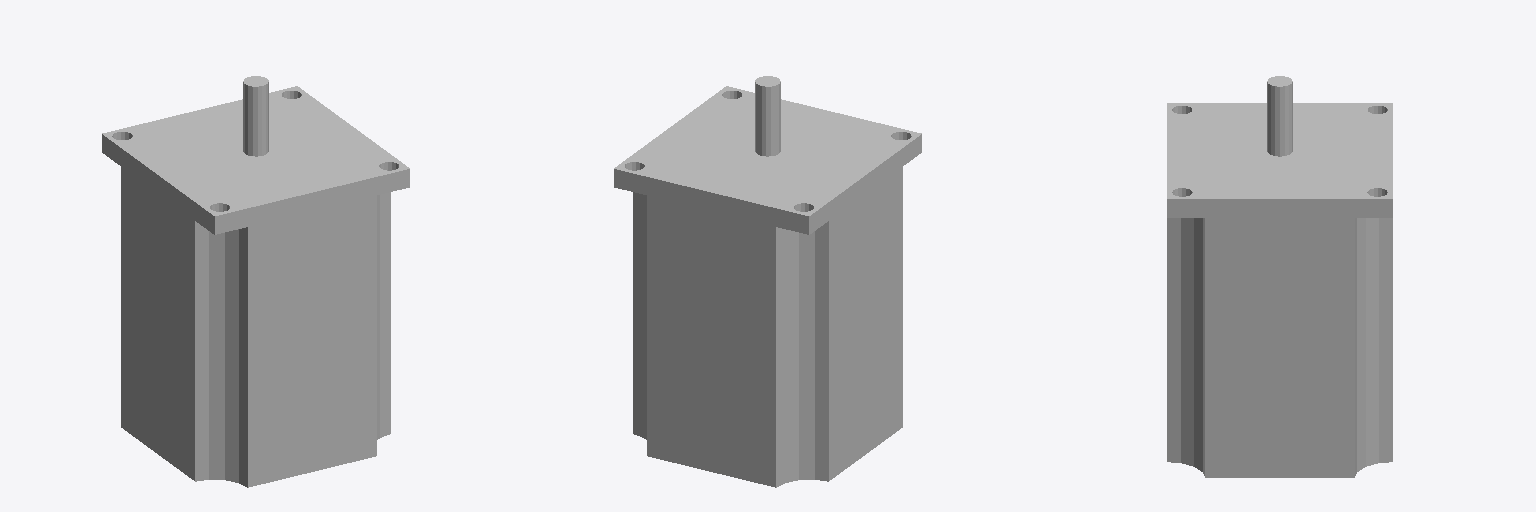
The model's file is zmotor.obj.
3 views of the same model, side by side, from view 1: azimuth 30°, elevation 25°; view 2: azimuth 150°, elevation 25°; view 3: azimuth 270°, elevation 25° (orthographic).
Visible parts, largest first — view 1: object_1; view 2: object_1; view 3: object_1.
Boxes of the visible parts, <box> form: object_1: <box>102,76,409,487</box>; object_1: <box>614,76,921,487</box>; object_1: <box>1167,76,1392,477</box>.
Bounding box in the file's own units: 2.2 × 3.75 × 2.2.